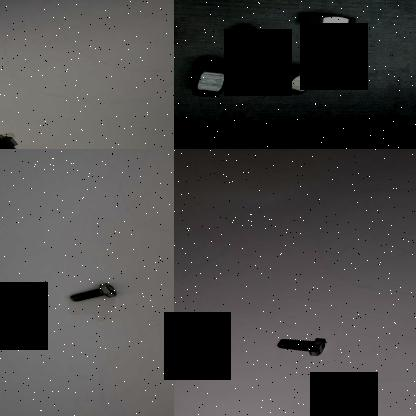Bolts: (276, 334, 332, 356), (68, 280, 120, 302), (0, 129, 27, 149)
NUTS: (174, 54, 252, 104), (301, 8, 366, 35), (232, 20, 286, 52), (277, 61, 323, 96)
